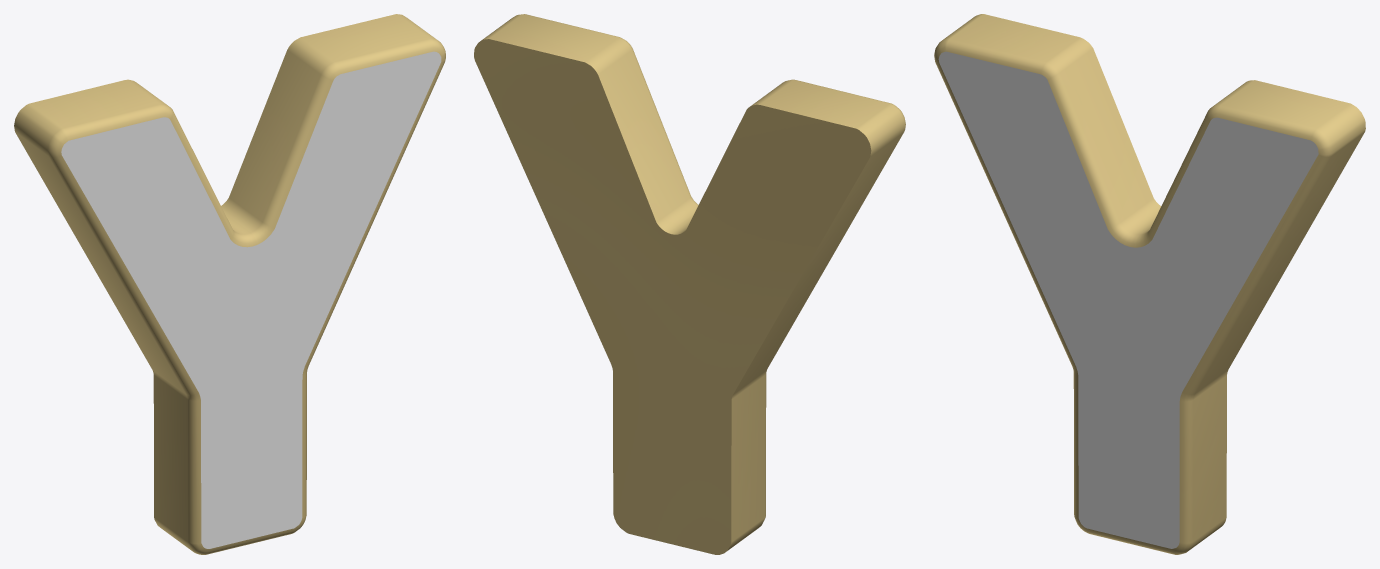
File: LettersLightUp02_Y.FBX
The picture shows the model from 3 angles, left to right: view 1: azimuth 30°, elevation 25°; view 2: azimuth 150°, elevation 25°; view 3: azimuth 330°, elevation 25°; orthographic projection.
Parts seen in each view (by area): view 1: LettersLightUp02_Y; view 2: LettersLightUp02_Y; view 3: LettersLightUp02_Y.
Part boxes in pixels (x1,y1,x2,y2): LettersLightUp02_Y: (14,14,445,554); LettersLightUp02_Y: (474,14,905,554); LettersLightUp02_Y: (934,14,1365,554).
Size of what is drawn, in the model's own units: 0.541 by 0.5997 by 0.0912.
